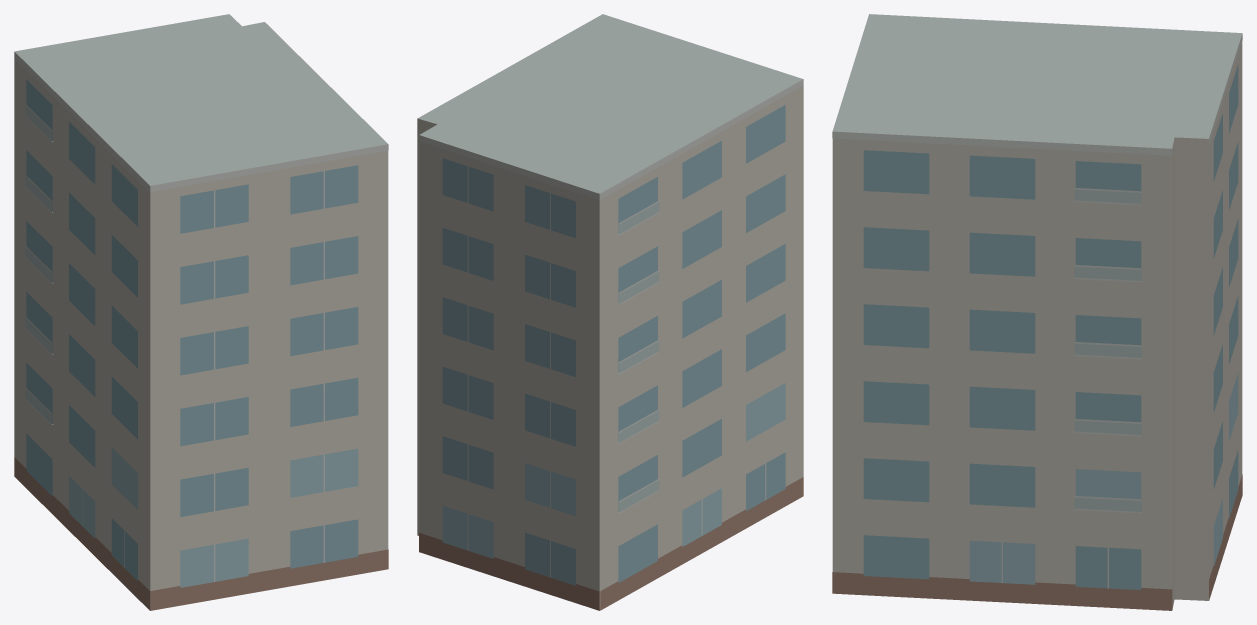
The model's file is survey-upis-32669185.glb.
3 renders of one model, left to right at view 1: azimuth 30°, elevation 25°; view 2: azimuth 150°, elevation 25°; view 3: azimuth 270°, elevation 25°, orthographic. The views are drawn at different scales.
Visible parts, largest first — view 1: survey-upis-32669185.tmp; view 2: survey-upis-32669185.tmp; view 3: survey-upis-32669185.tmp.
Boxes of the visible parts, left/top/right/bottom form: survey-upis-32669185.tmp: left=14, top=14, right=388, bottom=610; survey-upis-32669185.tmp: left=417, top=14, right=803, bottom=610; survey-upis-32669185.tmp: left=832, top=14, right=1242, bottom=610.
Size of the model in its own units: 10.18 by 16.25 by 13.08.
